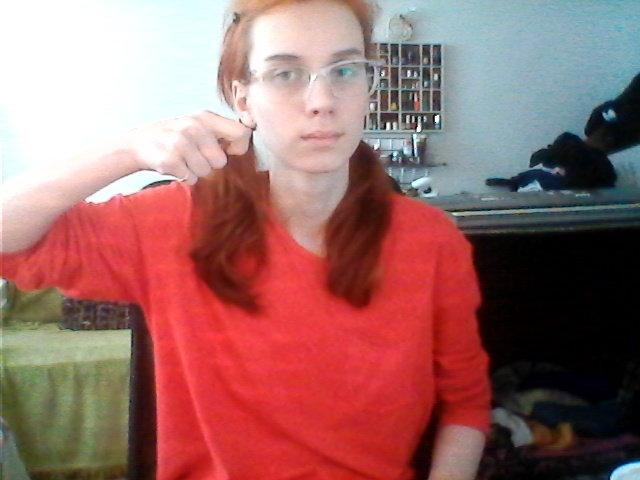jest: (154, 117, 329, 198)
